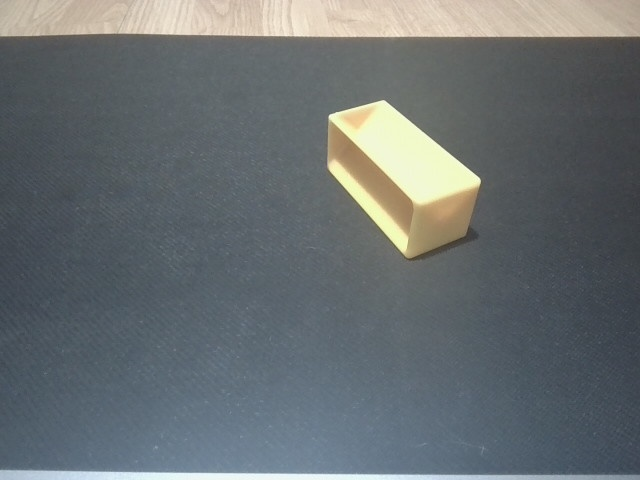YellowSample: (321, 94, 485, 266)
